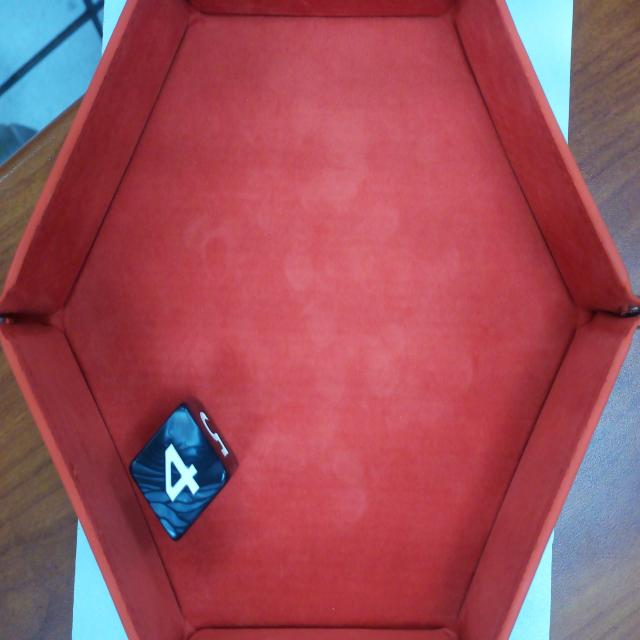dice: (133, 407, 230, 537)
